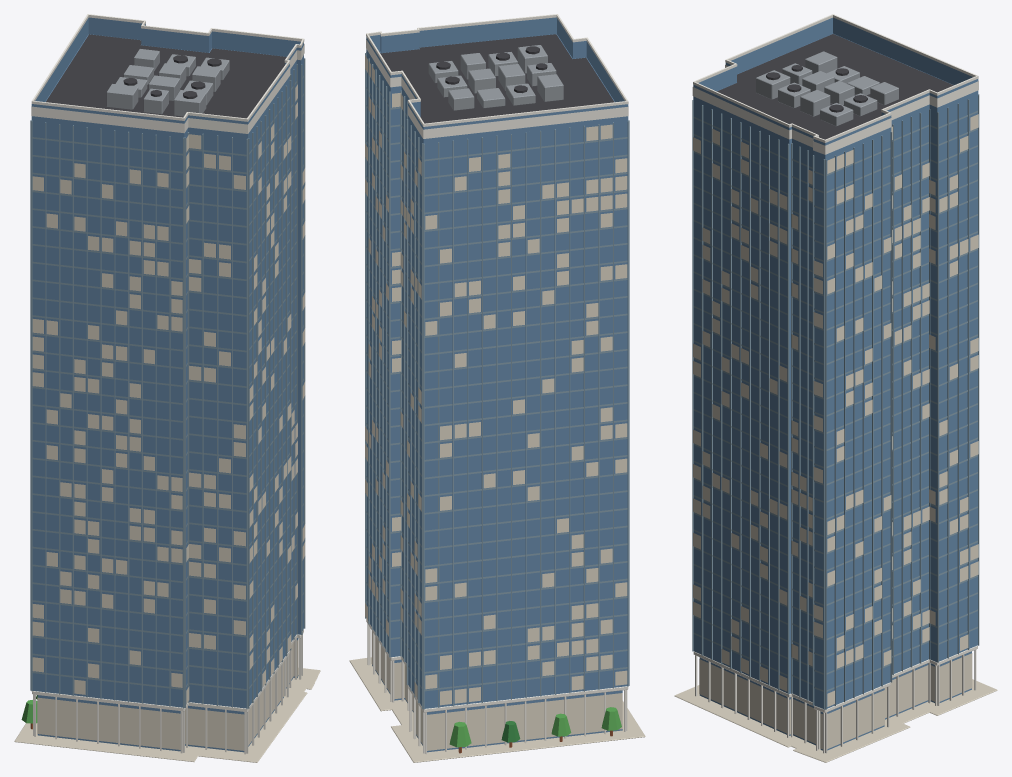
Rendered from 555-mission-street.glb.
The picture shows the model from 3 angles, left to right: view 1: azimuth 30°, elevation 25°; view 2: azimuth 150°, elevation 25°; view 3: azimuth 270°, elevation 25°; orthographic projection. The views are drawn at different scales.
Visible parts, largest first — view 1: 555-mission-street_body, 555-mission-street_night_glow; view 2: 555-mission-street_body, 555-mission-street_night_glow; view 3: 555-mission-street_body, 555-mission-street_night_glow.
Part boxes in pixels (x1,y1,x2,y2): 555-mission-street_body: (14,14,320,762); 555-mission-street_night_glow: (31,44,305,750); 555-mission-street_body: (349,14,645,762); 555-mission-street_night_glow: (365,39,628,750); 555-mission-street_body: (674,14,997,762); 555-mission-street_night_glow: (692,64,978,749).
Bounding box in the file's own units: 73.02 × 147 × 70.06.
